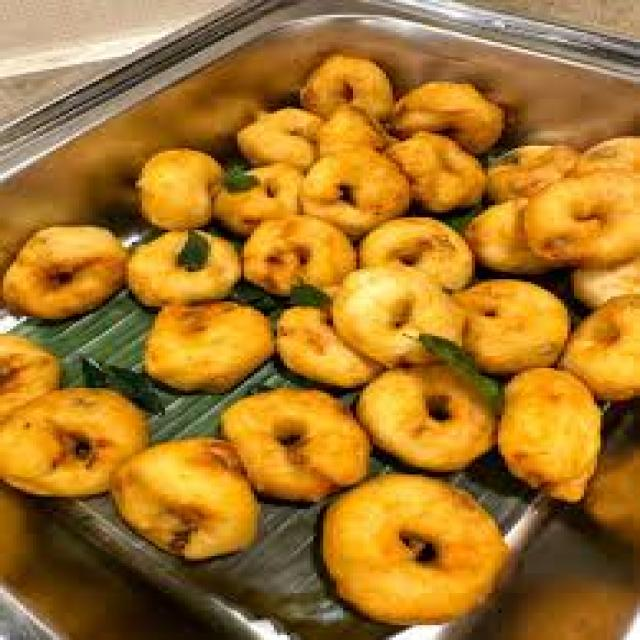MEDU VADA: (323, 474, 508, 623), (112, 440, 257, 558), (221, 388, 366, 499), (356, 368, 492, 469), (333, 267, 462, 366), (3, 225, 125, 316), (145, 304, 271, 390), (525, 173, 637, 267), (455, 279, 567, 371), (125, 230, 238, 304)
